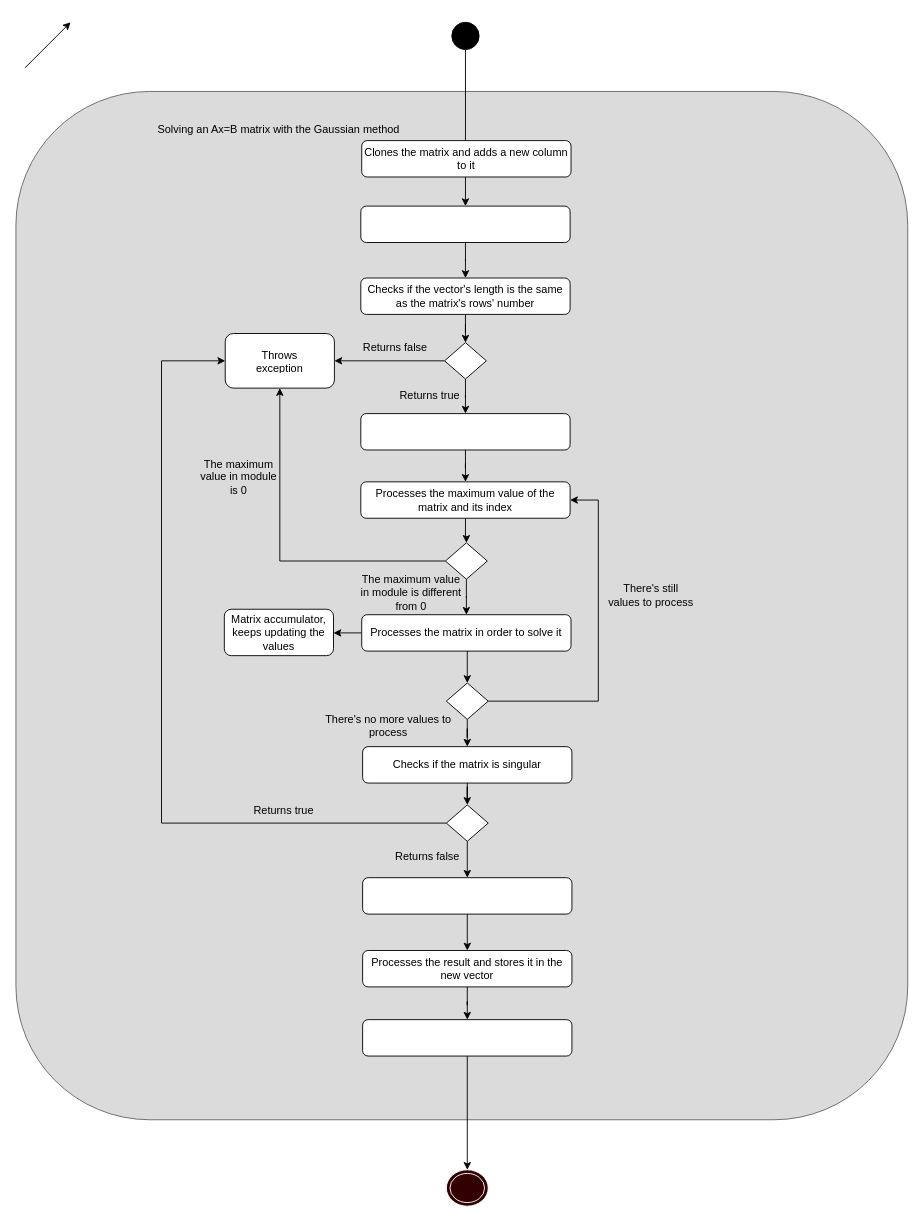
Some shapes in this 924 by 1222 pixel diagram are drawn without their labels. The shapes that lost their labels are listed below. From the top down, each one's centre as x and y in pixels, then its label:
At point 465,224: "Stores the given matrix in a Matrix object".
At point 465,431: "Extends the stored matrix adding the given vector to it as a column".
At point 467,895: "Creates a vector with the same amount of columns as the matrix".
At point 467,1037: "Returns the vector".
